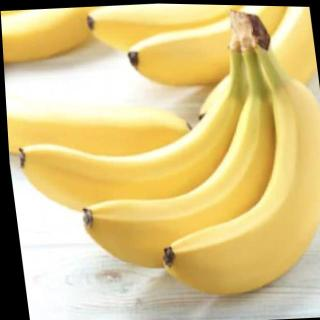banana: (64, 87, 303, 279), (137, 75, 320, 304), (5, 78, 273, 230)
